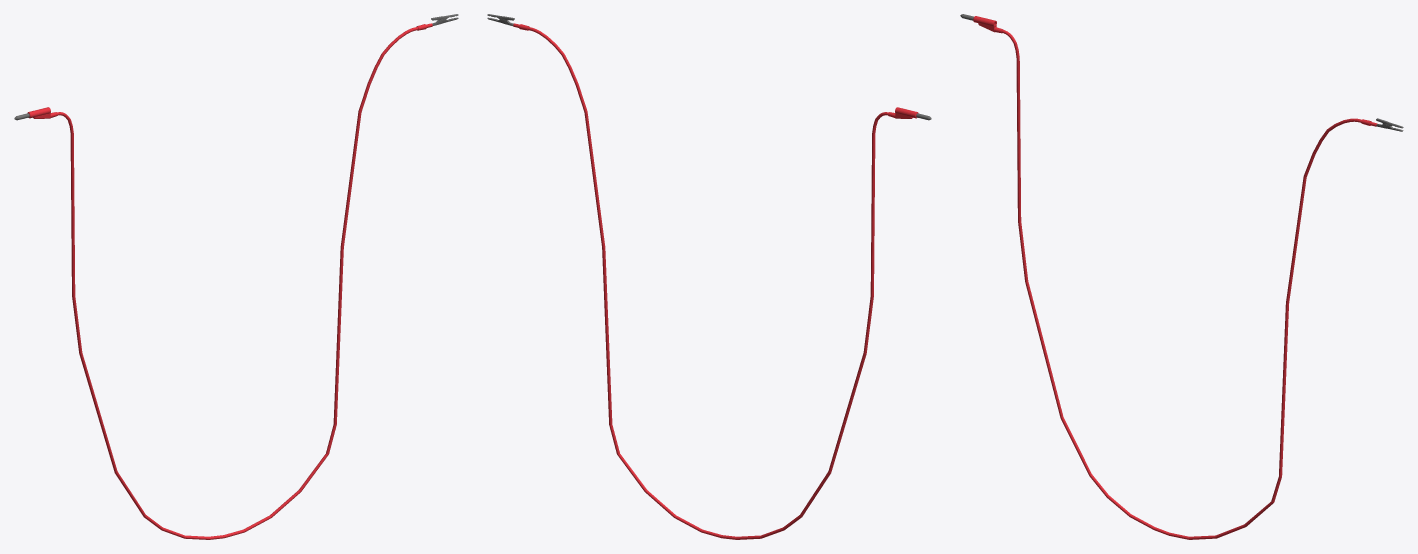
The model's file is klemme.fbx.
3 views of the same model, side by side, from view 1: azimuth 30°, elevation 25°; view 2: azimuth 150°, elevation 25°; view 3: azimuth 330°, elevation 25° (orthographic).
Parts seen in each view (by area): view 1: Cylinder.002; view 2: Cylinder.002; view 3: Cylinder.002.
Boxes of the visible parts, x1,y1,x2,y2 form: Cylinder.002: (50, 23, 432, 539); Cylinder.002: (513, 23, 895, 539); Cylinder.002: (994, 27, 1377, 539).
Bounding box in the file's own units: 7796 × 7942 × 99.91.
